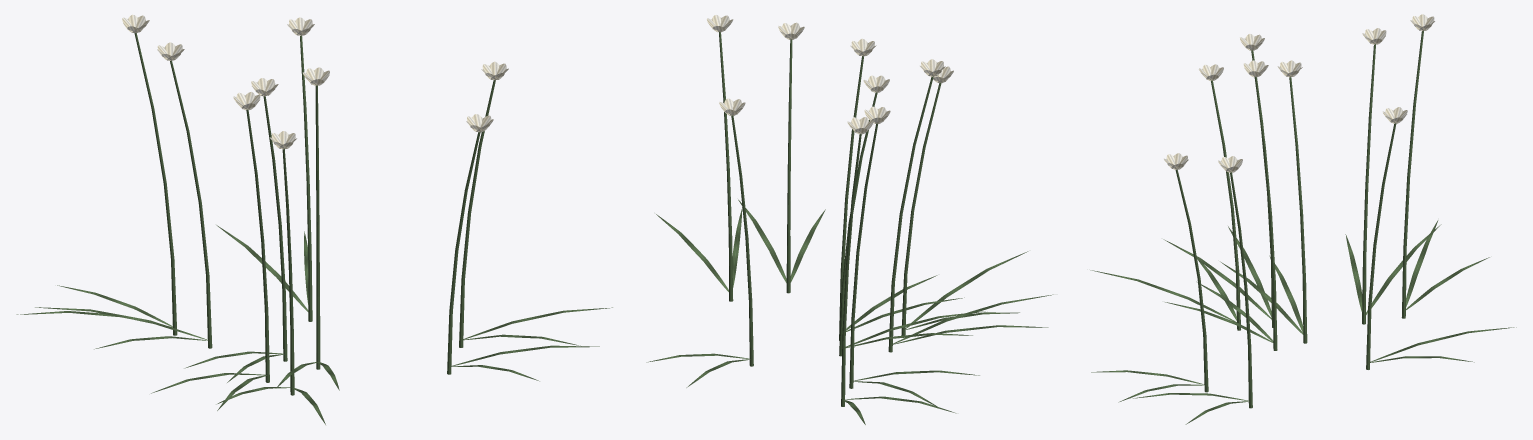
File: cotton_grass_v01.fbx
3 views of the same model, side by side, from view 1: azimuth 30°, elevation 25°; view 2: azimuth 150°, elevation 25°; view 3: azimuth 270°, elevation 25° (orthographic). The views are drawn at different scales.
Parts seen in each view (by area): view 1: cotton_grass_v01; view 2: cotton_grass_v01; view 3: cotton_grass_v01.
Part boxes in pixels (left/top/right/bottom): cotton_grass_v01: left=16, top=14, right=612, bottom=424; cotton_grass_v01: left=646, top=15, right=1053, bottom=424; cotton_grass_v01: left=1090, top=14, right=1516, bottom=424.
Bounding box in the file's own units: 69.53 × 61.96 × 45.13.
3 materials, 3 textured.
